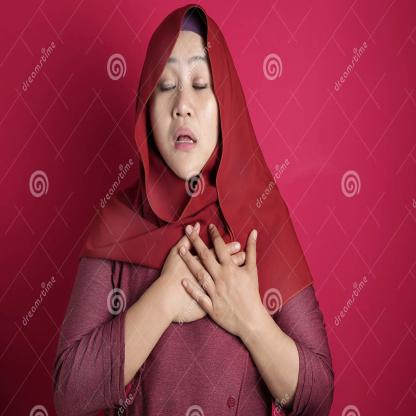pain: (144, 60, 217, 96)
